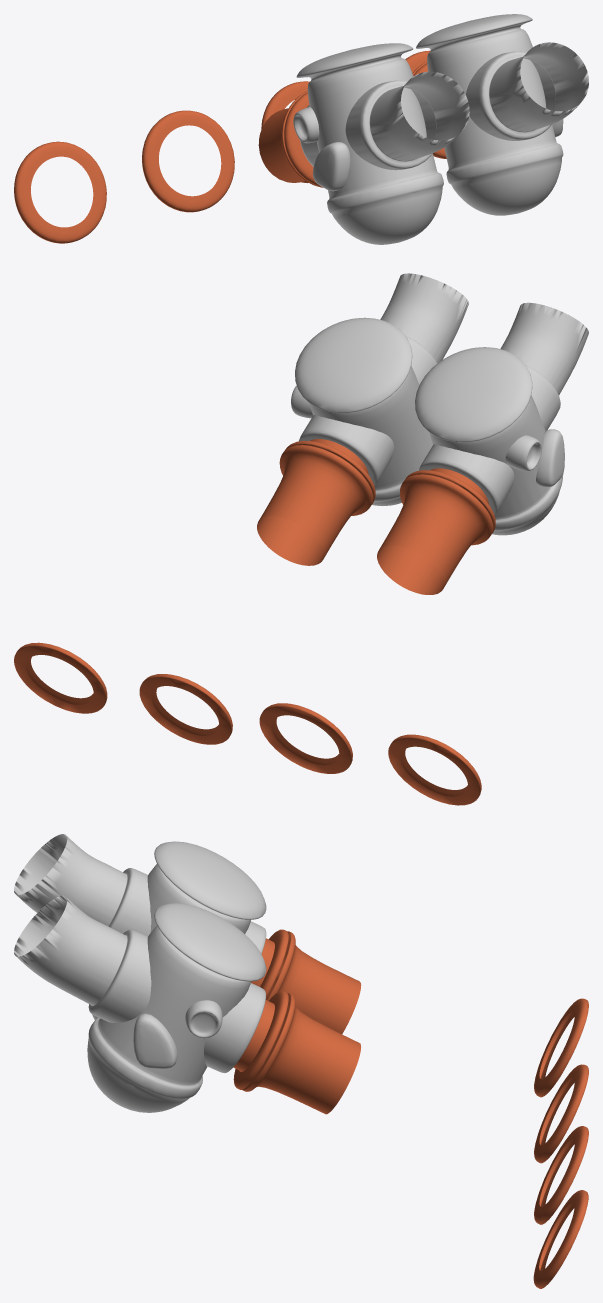
The model's file is CB400SF_Carburetor.obj.
3 renders of one model, top to bottom at view 1: azimuth 30°, elevation 25°; view 2: azimuth 150°, elevation 25°; view 3: azimuth 270°, elevation 25°, orthographic. The views are drawn at different scales.
Parts seen in each view (by area): view 1: Karbyrator; view 2: Karbyrator; view 3: Karbyrator.
Boxes of the visible parts, left/top/right/bottom form: Karbyrator: left=14, top=14, right=588, bottom=244; Karbyrator: left=14, top=273, right=588, bottom=805; Karbyrator: left=14, top=834, right=588, bottom=1288.
Bounding box in the file's own units: 41.25 × 25.82 × 42.19.
